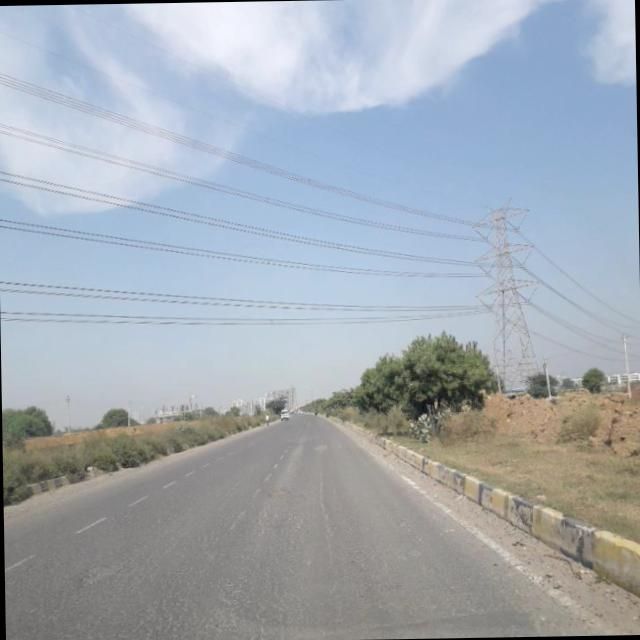crack: (25, 495, 402, 640), (316, 455, 338, 565)
pothole: (78, 550, 128, 590), (306, 432, 340, 460), (254, 482, 288, 508)
